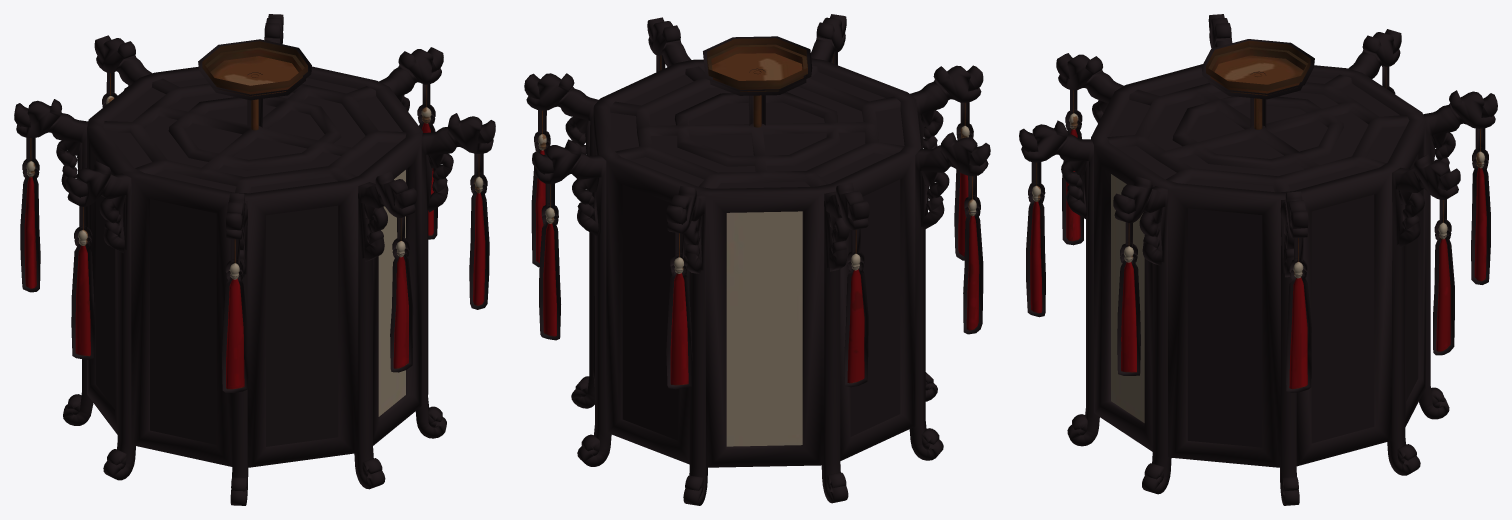
Rendered from SM_Int_LanternLamp.fbx.
3 views of the same model, side by side, from view 1: azimuth 30°, elevation 25°; view 2: azimuth 150°, elevation 25°; view 3: azimuth 270°, elevation 25° (orthographic).
Parts seen in each view (by area): view 1: SM_Int_LanternLamp; view 2: SM_Int_LanternLamp; view 3: SM_Int_LanternLamp.
Part boxes in pixels (left/top/right/bottom): SM_Int_LanternLamp: left=14, top=14, right=495, bottom=505; SM_Int_LanternLamp: left=524, top=14, right=990, bottom=505; SM_Int_LanternLamp: left=1019, top=14, right=1497, bottom=505.
Size of the model in its own units: 0.8918 by 0.7541 by 0.8921.
